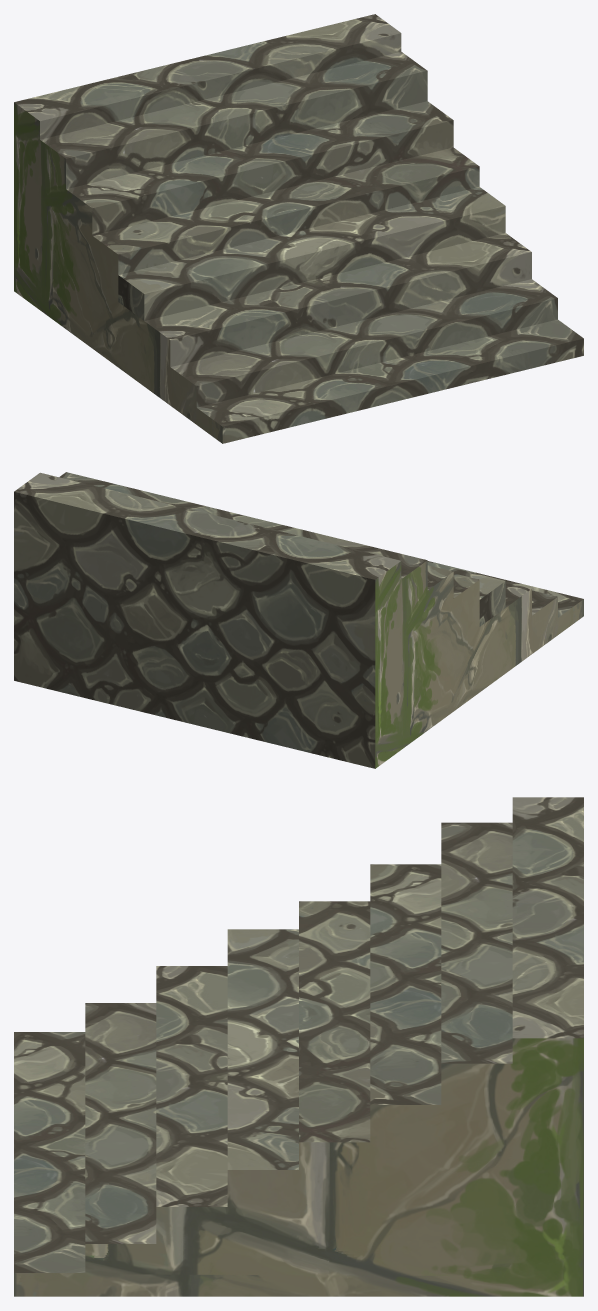
The model's file is stairs.fbx.
3 renders of one model, top to bottom at view 1: azimuth 30°, elevation 25°; view 2: azimuth 150°, elevation 25°; view 3: azimuth 270°, elevation 25°, orthographic. The views are drawn at different scales.
Parts seen in each view (by area): view 1: floor1; view 2: floor1; view 3: floor1.
Boxes of the visible parts, x1,y1,x2,y2 form: floor1: (14,14,583,443); floor1: (14,472,583,768); floor1: (14,797,583,1296).
Bounding box in the file's own units: 4 × 2 × 4.
